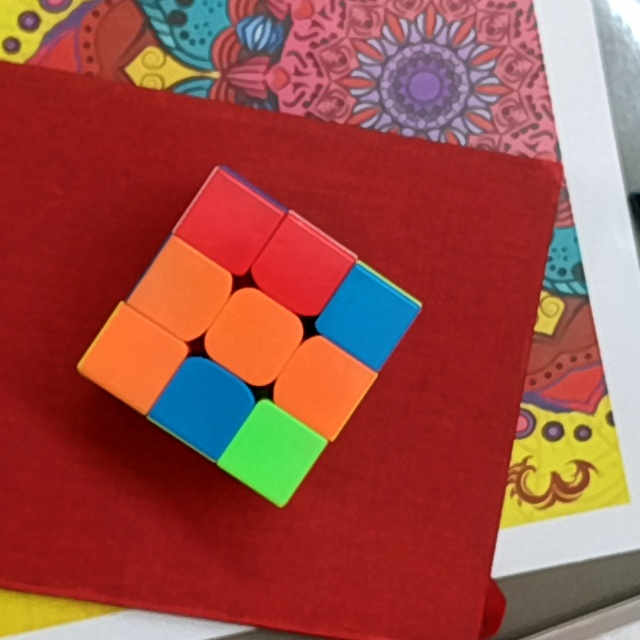tile: (200, 197, 256, 252), (104, 332, 160, 387), (157, 264, 211, 319), (274, 242, 330, 295), (292, 359, 348, 412), (226, 309, 282, 362), (175, 380, 232, 432), (340, 293, 394, 346), (245, 427, 299, 480)
